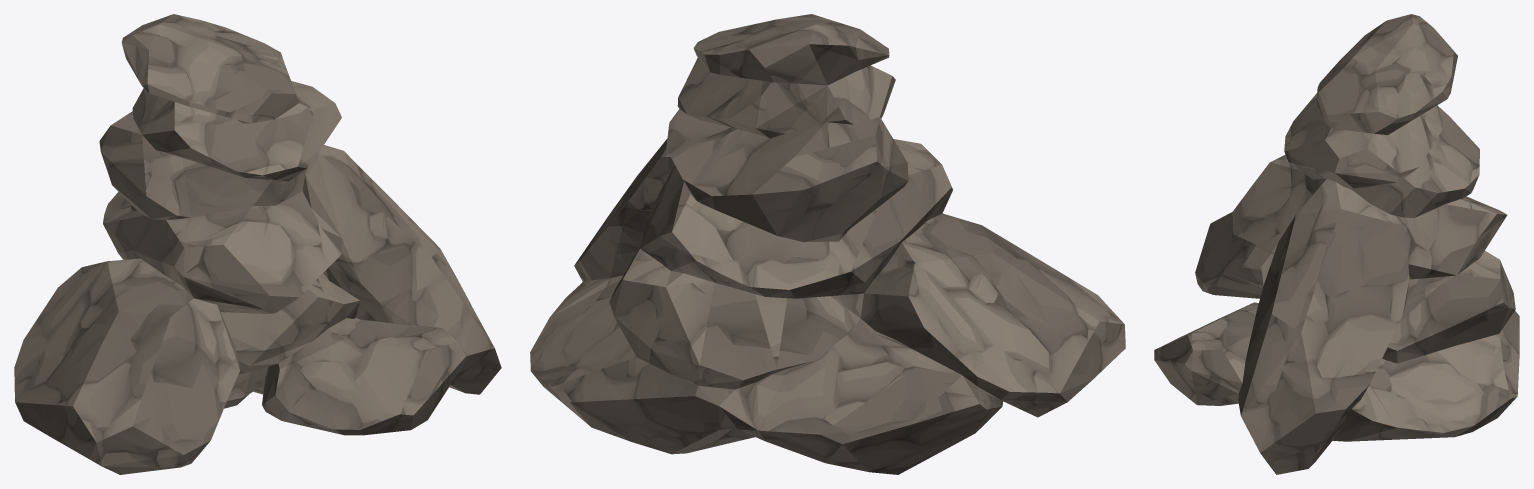
The picture shows the model from 3 angles, left to right: view 1: azimuth 30°, elevation 25°; view 2: azimuth 150°, elevation 25°; view 3: azimuth 270°, elevation 25°; orthographic projection. The views are drawn at different scales.
Parts seen in each view (by area): view 1: SM_Rock_Pile_03; view 2: SM_Rock_Pile_03; view 3: SM_Rock_Pile_03.
Part boxes in pixels (x1=…): SM_Rock_Pile_03: x1=14, y1=14, x2=501, y2=474; SM_Rock_Pile_03: x1=530, y1=14, x2=1125, y2=474; SM_Rock_Pile_03: x1=1154, y1=14, x2=1519, y2=474.
Size of the model in its own units: 6.34 by 5.25 by 5.02.
1 material, 1 textured.
